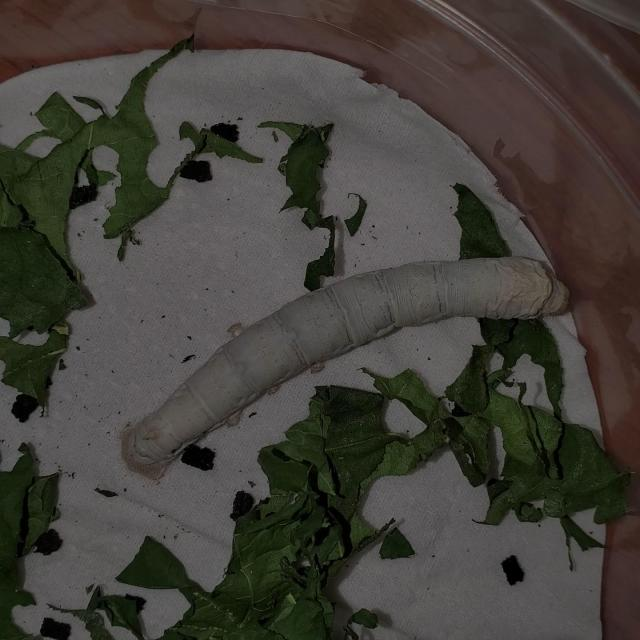Healthy: (98, 236, 600, 511)
